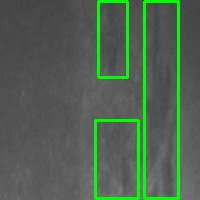inclusion: (144, 1, 178, 198), (95, 120, 138, 198), (98, 1, 127, 77)
